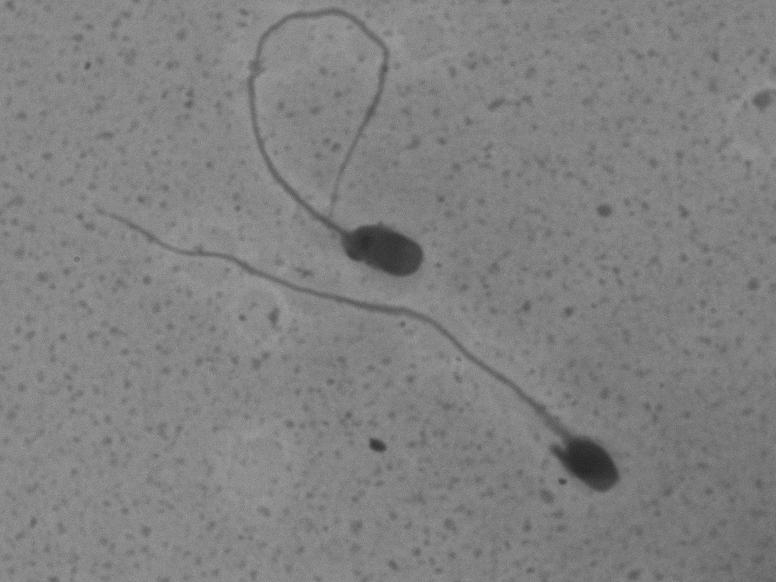Abnormal: (228, 4, 449, 280)
Normal: (66, 184, 636, 503)
